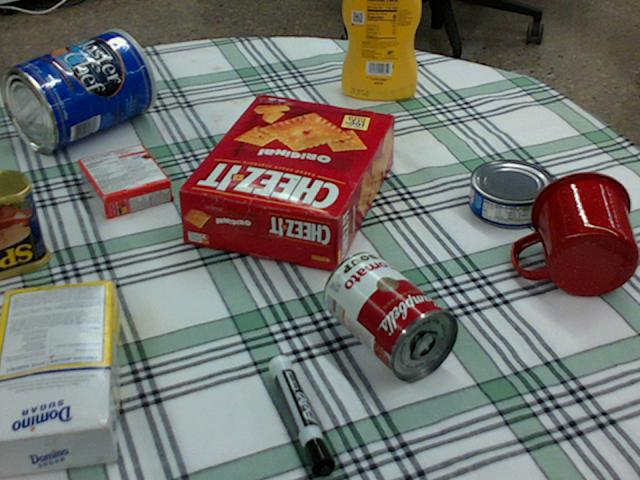cracker_box: (176, 93, 395, 271)
gelatin_box: (78, 143, 173, 219)
large_marker: (269, 355, 333, 479)
master_chef_can: (1, 29, 156, 154)
mug: (513, 171, 639, 296)
mustard_bottle: (341, 0, 421, 100)
potted_meat_can: (0, 168, 51, 278)
sugar_box: (0, 280, 115, 476)
tomato_soup_can: (322, 249, 457, 381)
tuna_fish_can: (470, 159, 555, 228)
